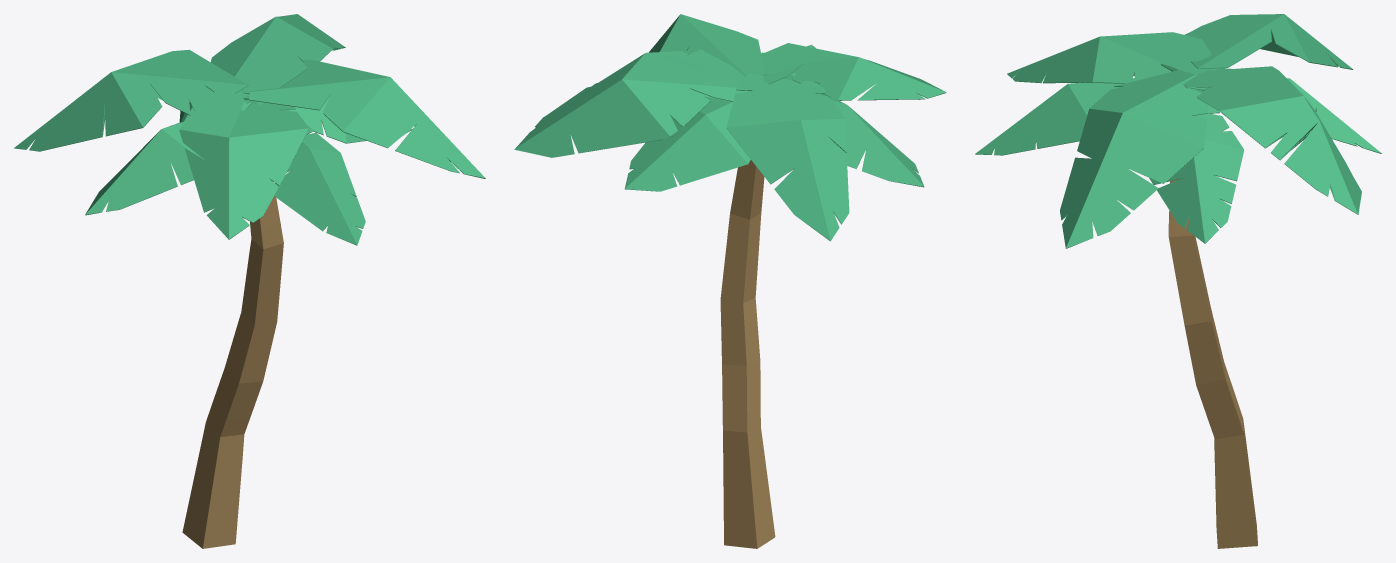
File: Tree coconut tree Low Poly.fbx
3 views of the same model, side by side, from view 1: azimuth 30°, elevation 25°; view 2: azimuth 150°, elevation 25°; view 3: azimuth 270°, elevation 25° (orthographic). The views are drawn at different scales.
Visible parts, largest first — view 1: Plane, Plane.009, Plane.006, Plane.008, Plane.004, Plane.007, Plane.003, Plane.001; view 2: Plane, Plane.007, Plane.008, Plane.002, Plane.009, Plane.006, Plane.003; view 3: Plane.006, Plane, Plane.007, Plane.009, Plane.001, Plane.008, Plane.004, Plane.002.
Part boxes in pixels (box(x1,y1,x2,y2)): Plane: box(182, 181, 283, 548); Plane.009: box(179, 85, 309, 239); Plane.006: box(248, 59, 485, 178); Plane.008: box(14, 49, 248, 151); Plane.004: box(253, 101, 365, 245); Plane.007: box(210, 14, 345, 93); Plane.003: box(85, 98, 253, 215); Plane.001: box(289, 96, 412, 143); Plane: box(720, 160, 775, 548); Plane.007: box(514, 49, 749, 157); Plane.008: box(726, 73, 849, 241); Plane.002: box(624, 73, 768, 191); Plane.009: box(761, 43, 946, 100); Plane.006: box(649, 14, 765, 76); Plane.003: box(767, 74, 924, 187); Plane.006: box(1060, 70, 1208, 248); Plane: box(1168, 179, 1257, 548); Plane.007: box(1183, 66, 1361, 214); Plane.009: box(1007, 32, 1220, 83); Plane.001: box(1149, 105, 1244, 243); Plane.008: box(1184, 14, 1352, 69); Plane.004: box(975, 78, 1134, 155); Plane.002: box(1287, 78, 1381, 153).
Size of the model in its own units: 576 by 769 by 566.
